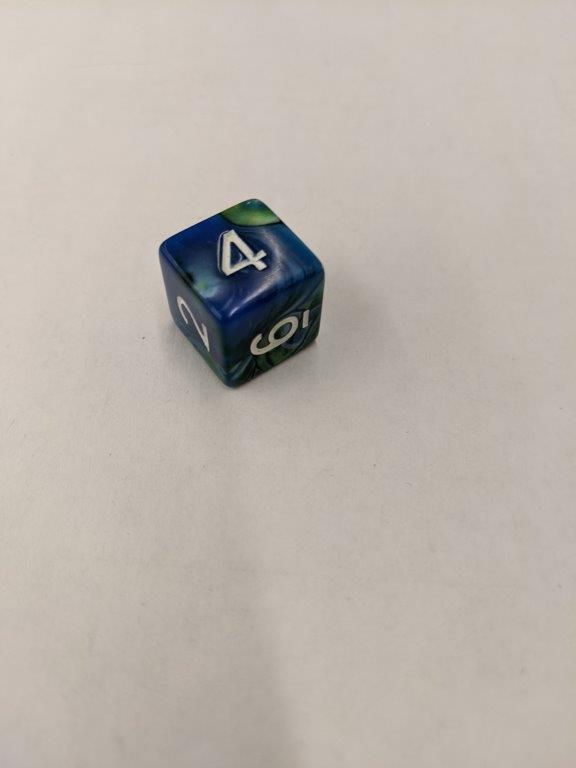d6-4: (158, 198, 324, 390)
